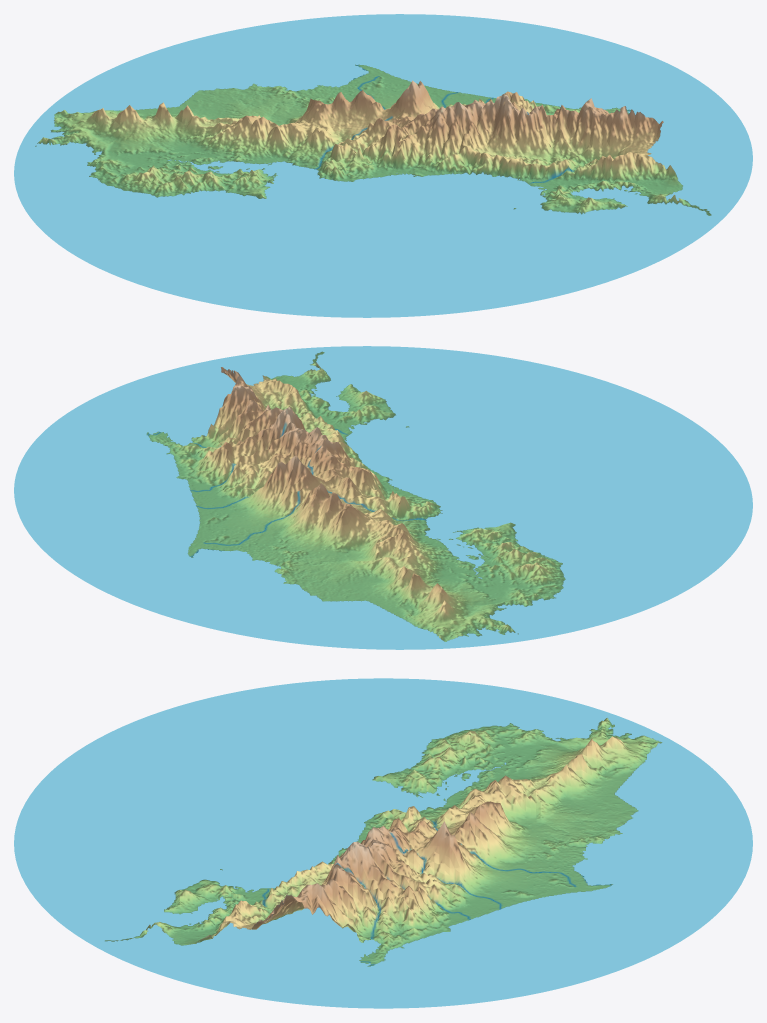
The model's file is CRI-terrain.glb.
The picture shows the model from 3 angles, top to bottom: view 1: azimuth 30°, elevation 25°; view 2: azimuth 150°, elevation 25°; view 3: azimuth 270°, elevation 25°; orthographic projection. The views are drawn at different scales.
Visible parts, largest first — view 1: Relevo com hidrografia; view 2: Relevo com hidrografia; view 3: Relevo com hidrografia.
Part boxes in pixels (x1,y1,x2,y2): Relevo com hidrografia: (14,14,752,317); Relevo com hidrografia: (14,346,752,649); Relevo com hidrografia: (14,678,752,1008).
Size of the model in its own units: 2.14 by 0.1719 by 2.02.
2 materials, 1 textured.
